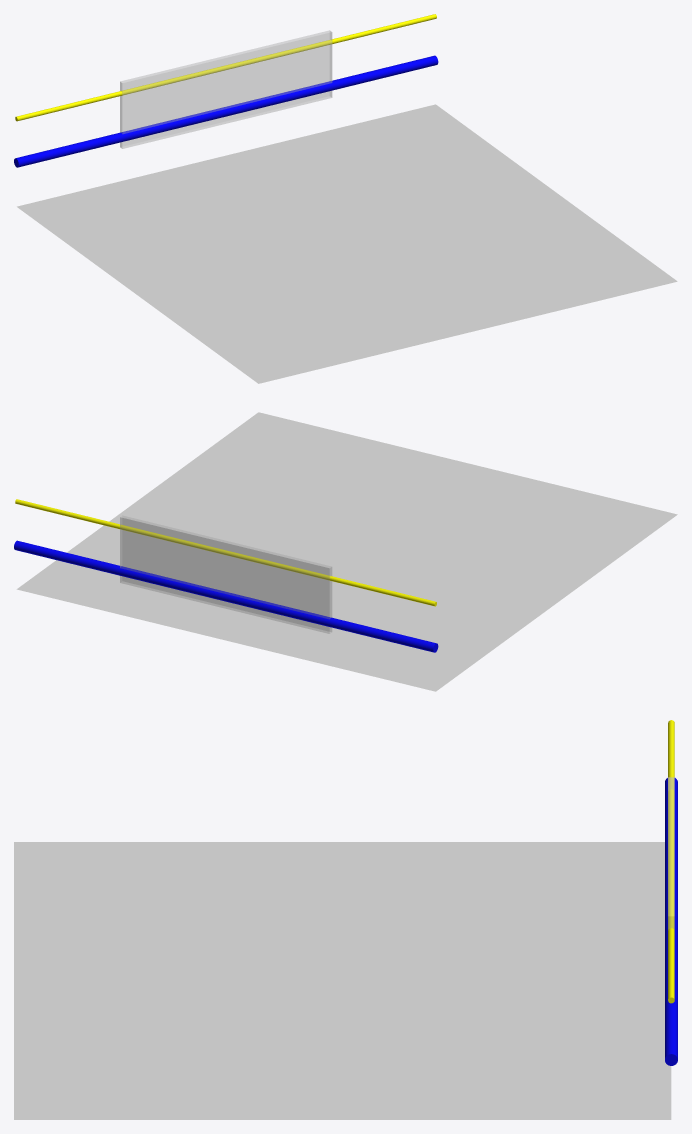
File: construction_model.glb
3 views of the same model, one above another, from view 1: azimuth 30°, elevation 25°; view 2: azimuth 150°, elevation 25°; view 3: azimuth 270°, elevation 25° (orthographic). The views are drawn at different scales.
Parts seen in each view (by area): view 1: BIM_Slab_Floor, BIM_Wall_North, BIM_Pipeline_Blue, BIM_Electrical_Yellow; view 2: BIM_Slab_Floor, BIM_Wall_North, BIM_Pipeline_Blue, BIM_Electrical_Yellow; view 3: BIM_Slab_Floor, BIM_Pipeline_Blue, BIM_Electrical_Yellow, BIM_Wall_North.
Boxes of the visible parts, x1,y1,x2,y2 form: BIM_Slab_Floor: (17, 104, 677, 383); BIM_Wall_North: (120, 30, 332, 148); BIM_Pipeline_Blue: (14, 55, 438, 167); BIM_Electrical_Yellow: (15, 14, 436, 121); BIM_Slab_Floor: (16, 412, 677, 691); BIM_Wall_North: (120, 515, 332, 633); BIM_Pipeline_Blue: (14, 540, 438, 652); BIM_Electrical_Yellow: (15, 499, 436, 606); BIM_Slab_Floor: (14, 842, 671, 1119); BIM_Pipeline_Blue: (665, 778, 677, 1065); BIM_Electrical_Yellow: (668, 720, 674, 1003); BIM_Wall_North: (668, 777, 674, 929).
Bounding box in the file's own units: 10 × 2.25 × 10.1.
